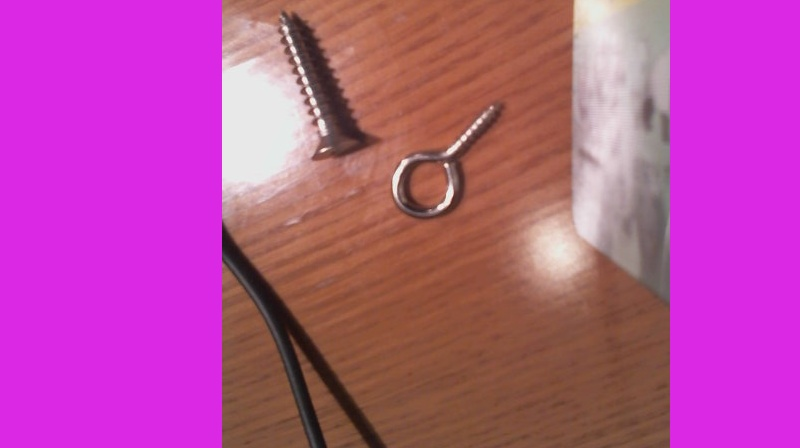O001: (389, 92, 505, 220)
S001: (276, 8, 364, 163)
